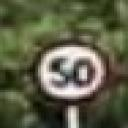speed_limit_50: (30, 40, 111, 104)
